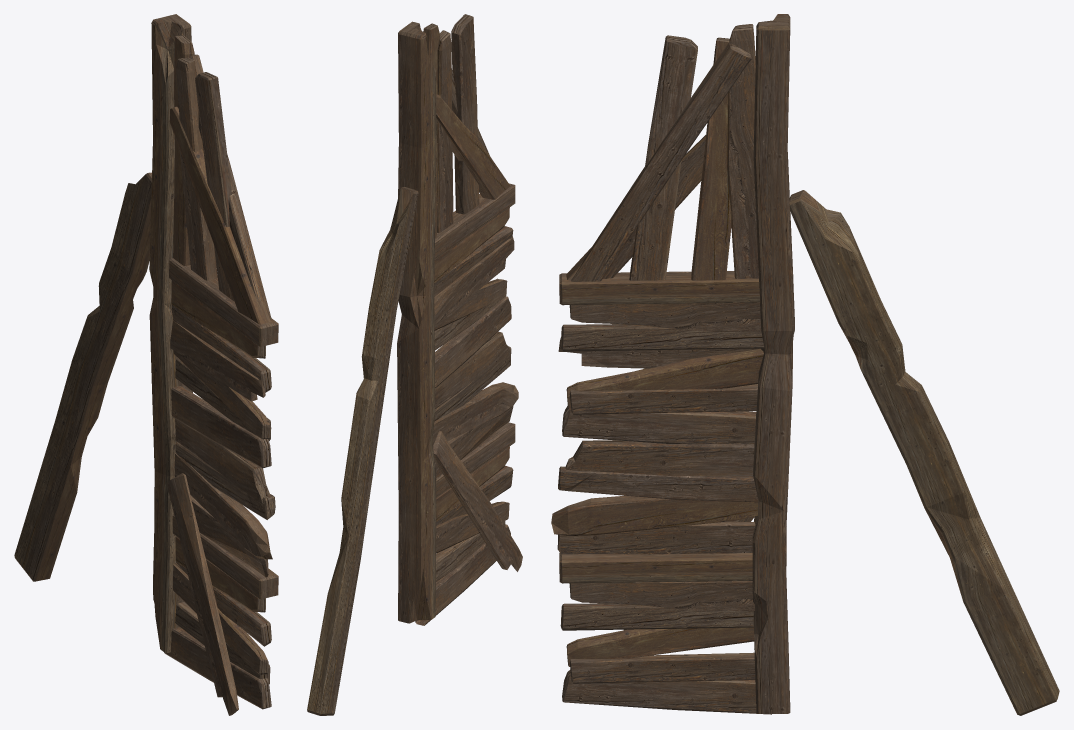
Rendered from SM_Asy_MazeWallAddons4m_02.fbx.
The picture shows the model from 3 angles, left to right: view 1: azimuth 30°, elevation 25°; view 2: azimuth 150°, elevation 25°; view 3: azimuth 270°, elevation 25°; orthographic projection. The views are drawn at different scales.
Visible parts, largest first — view 1: SM_Asy_MazeWallAddons4m_02.mo; view 2: SM_Asy_MazeWallAddons4m_02.mo; view 3: SM_Asy_MazeWallAddons4m_02.mo.
Boxes of the visible parts, x1,y1,x2,y2 form: SM_Asy_MazeWallAddons4m_02.mo: [14, 14, 278, 715]; SM_Asy_MazeWallAddons4m_02.mo: [307, 14, 522, 715]; SM_Asy_MazeWallAddons4m_02.mo: [551, 14, 1059, 715].
Size of the model in its own units: 33.46 by 473 by 311.
